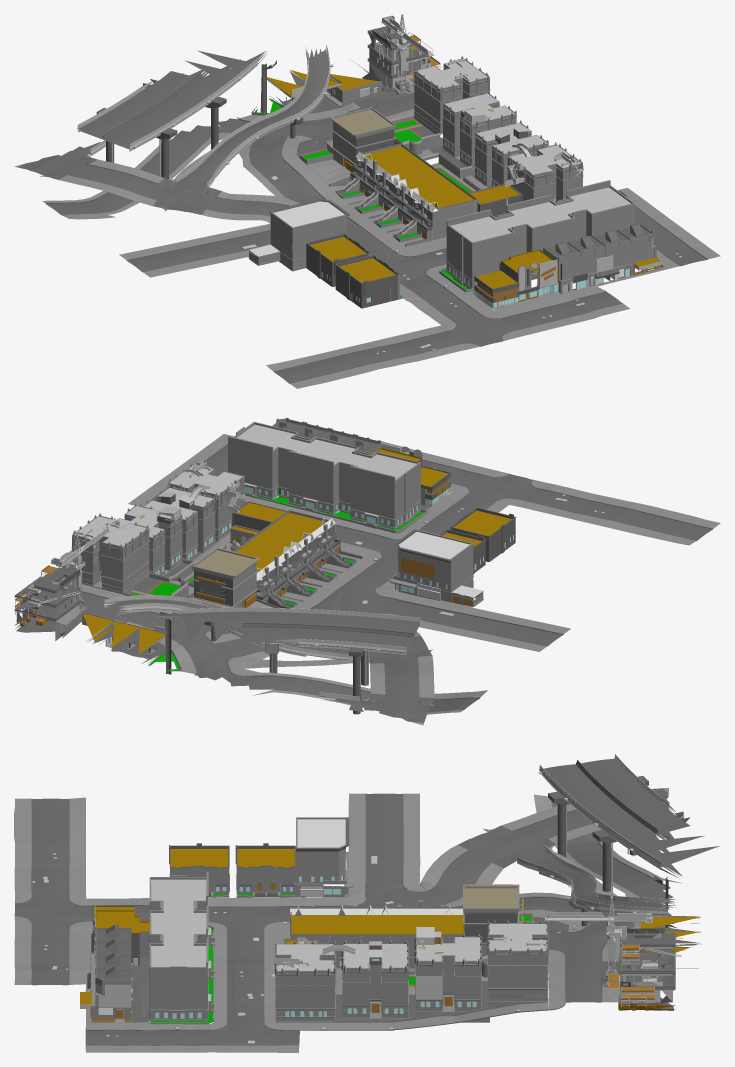
File: brook_s3_5.FBX
3 renders of one model, top to bottom at view 1: azimuth 30°, elevation 25°; view 2: azimuth 150°, elevation 25°; view 3: azimuth 270°, elevation 25°, orthographic. The views are drawn at different scales.
Parts seen in each view (by area): view 1: unnamed, null; view 2: unnamed, null; view 3: unnamed, null.
Boxes of the visible parts, <box> form: unnamed: <box>15,14,720,388</box>; null: <box>236,43,423,171</box>; unnamed: <box>14,417,720,725</box>; null: <box>82,565,243,675</box>; unnamed: <box>14,754,719,1052</box>; null: <box>491,850,702,976</box>.
Bounding box in the file's own units: 202 × 44.31 × 238.
